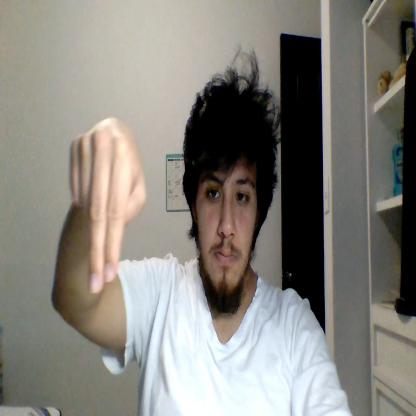N: (70, 116, 146, 298)
